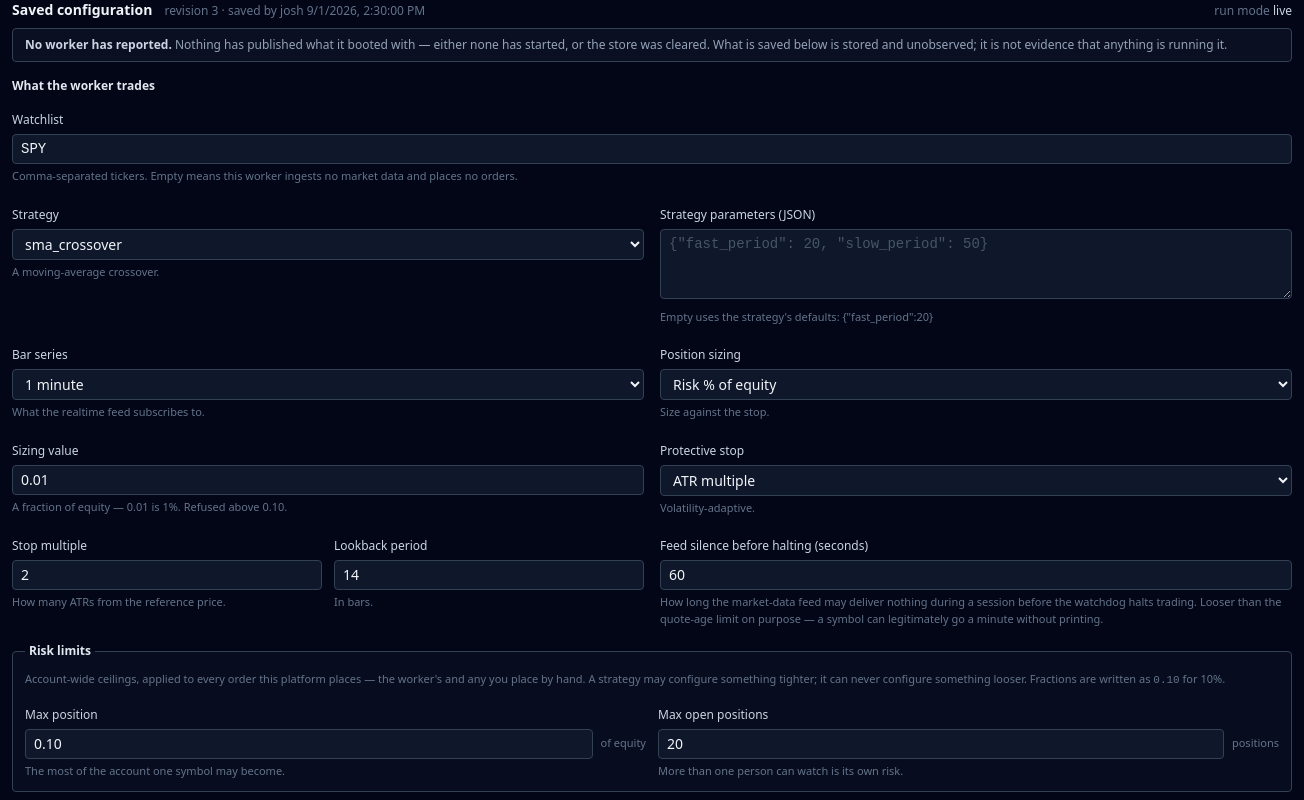
Test: the risk limits › refuses a ceiling above the server bound, naming the field, without a round trip
The image size is (1304, 800).
Replace the text in the field labelled "Max position" with "2". click: point(309, 744)
box: x1=25 y1=728 x2=592 y2=758
(page scrolled)
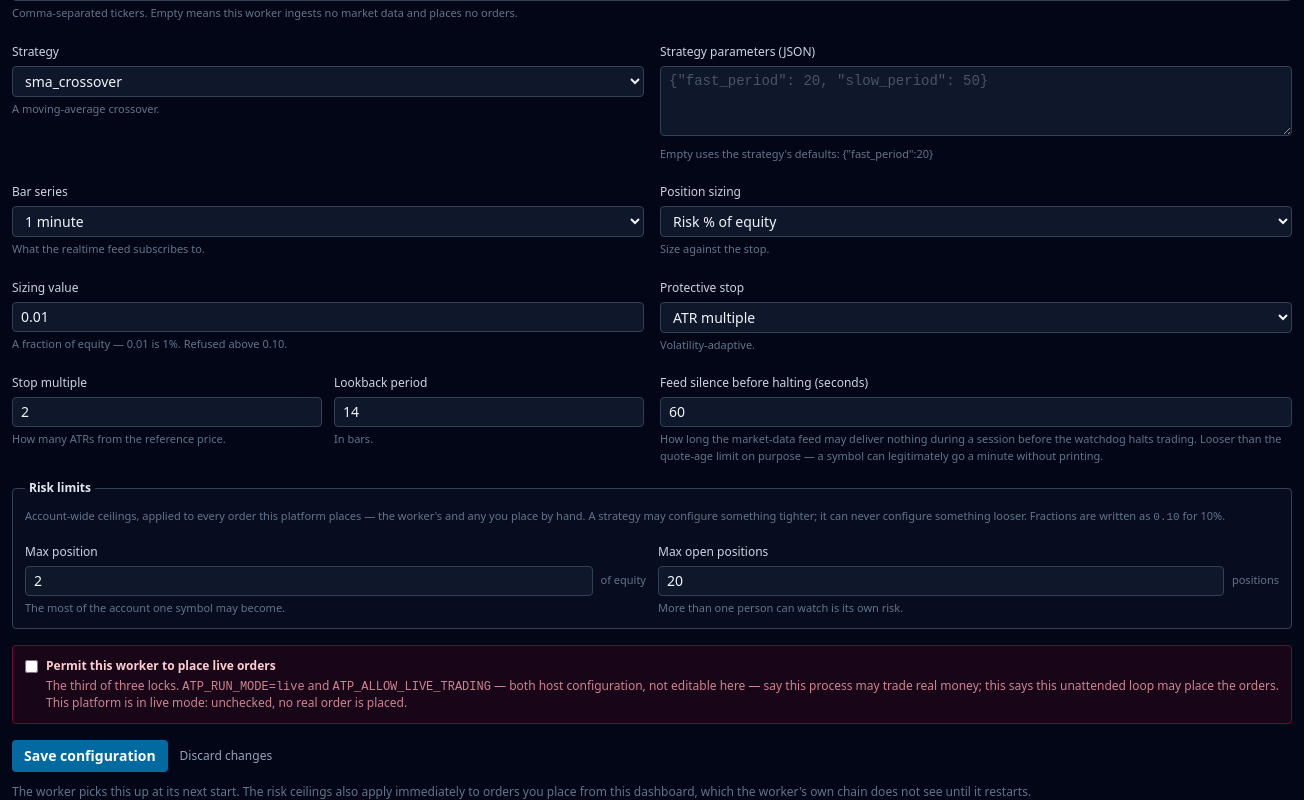
Click the button "Save configuration". click: point(90, 756)
box: x1=12 y1=740 x2=168 y2=772
(page scrolled)
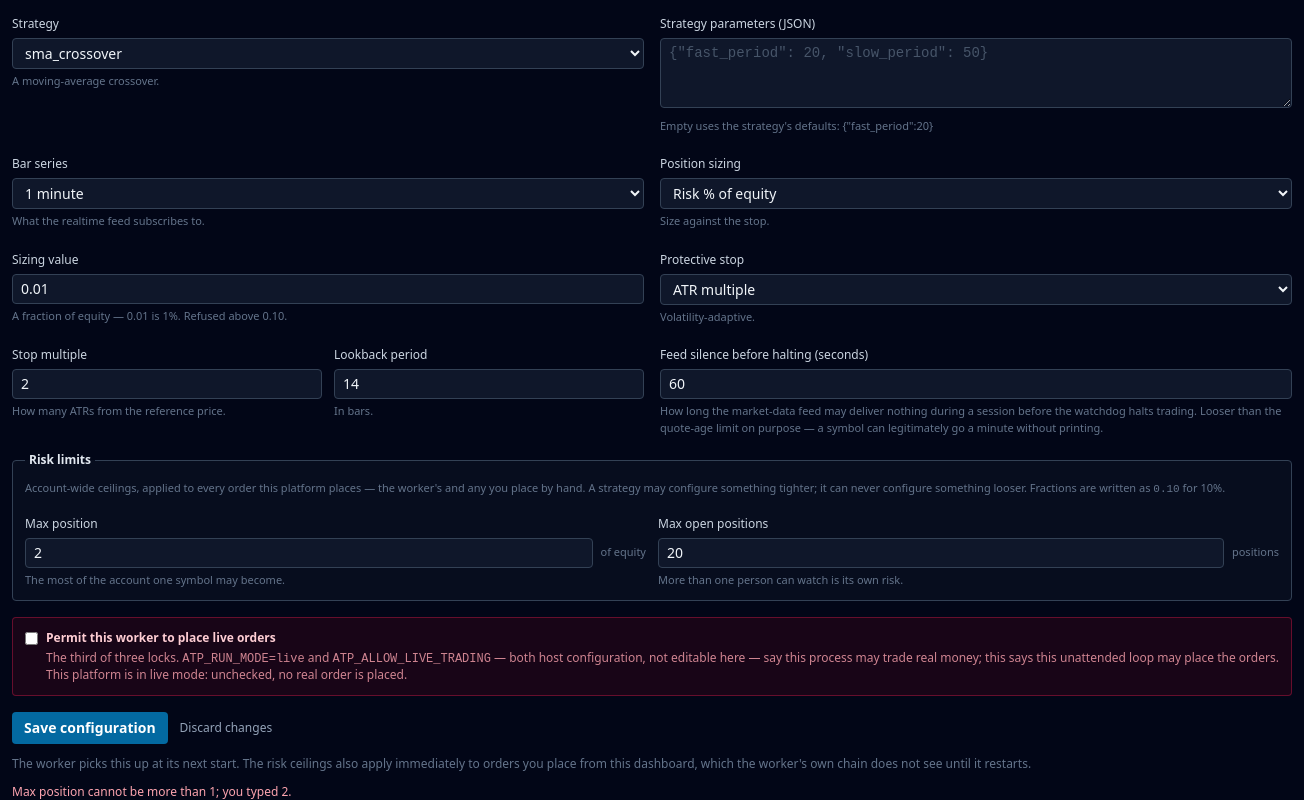
Result: the text "Max position cannot be more than 1; you typed 2." is shown at x1=12 y1=783 x2=292 y2=799
